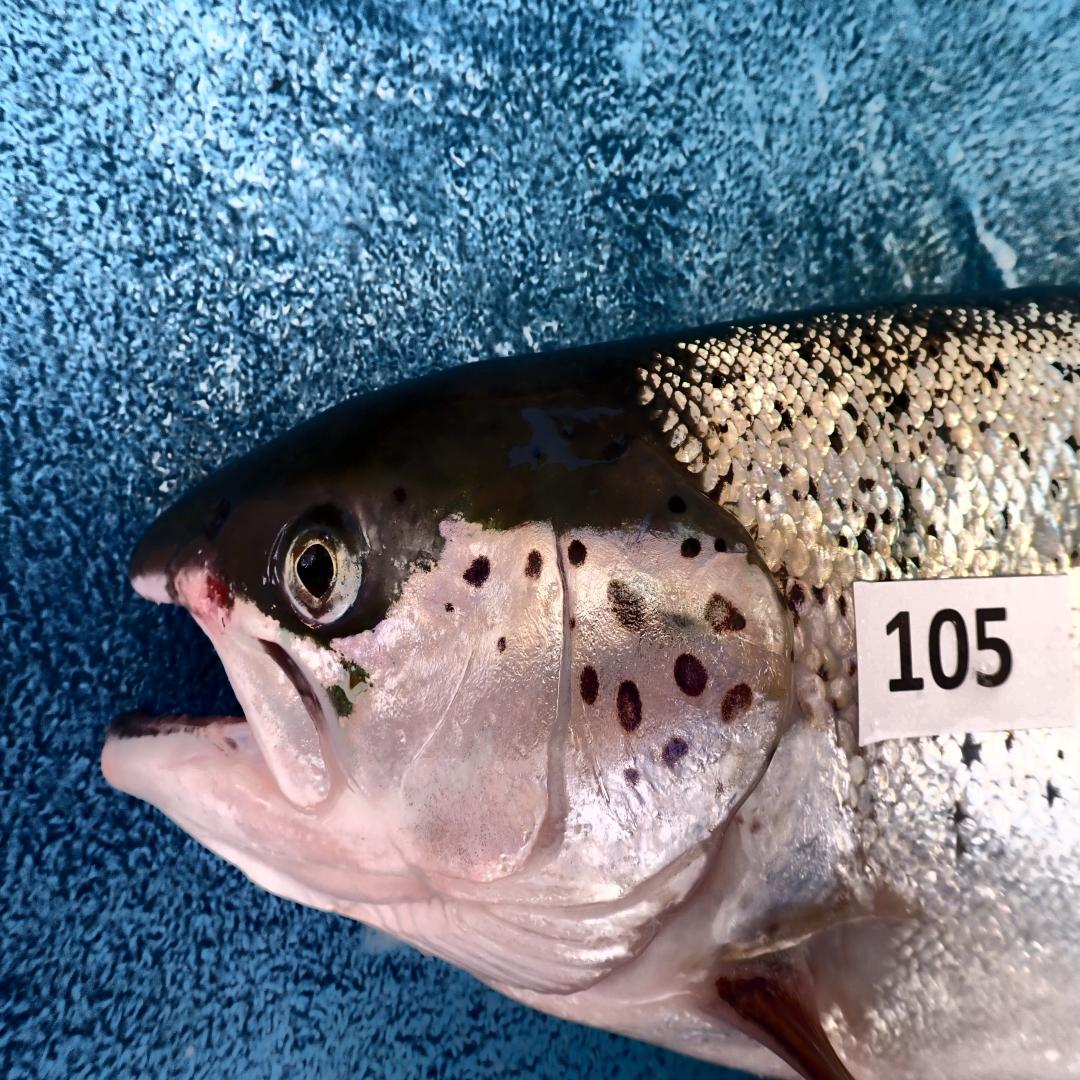spot: (608, 579, 646, 633), (705, 593, 747, 636), (673, 652, 707, 698), (616, 681, 642, 732), (721, 683, 753, 723), (464, 557, 491, 588), (662, 737, 688, 768), (580, 667, 599, 703), (567, 540, 586, 567), (525, 551, 543, 579), (680, 537, 702, 558), (624, 768, 639, 785), (715, 537, 728, 551), (498, 636, 506, 652), (569, 618, 576, 631), (445, 602, 454, 610)
